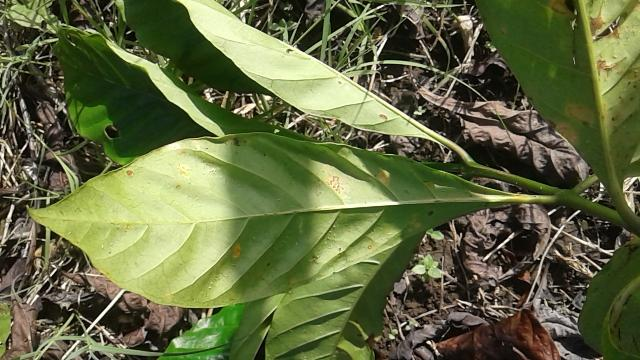rust_level_1: (139, 46, 621, 234)
